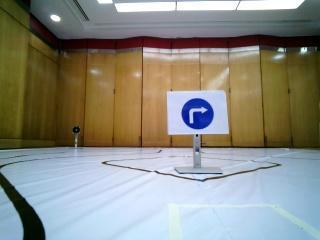right: (169, 93, 229, 135)
